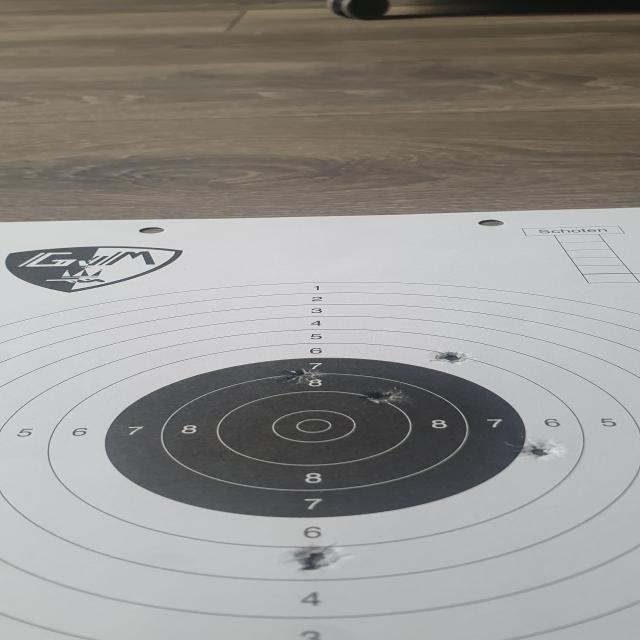6: (282, 542, 350, 572), (505, 438, 569, 461), (427, 348, 474, 366)
8: (276, 367, 328, 385)
9: (360, 388, 411, 404)
Target: (0, 279, 640, 640)
black_contour: (105, 357, 528, 519)
